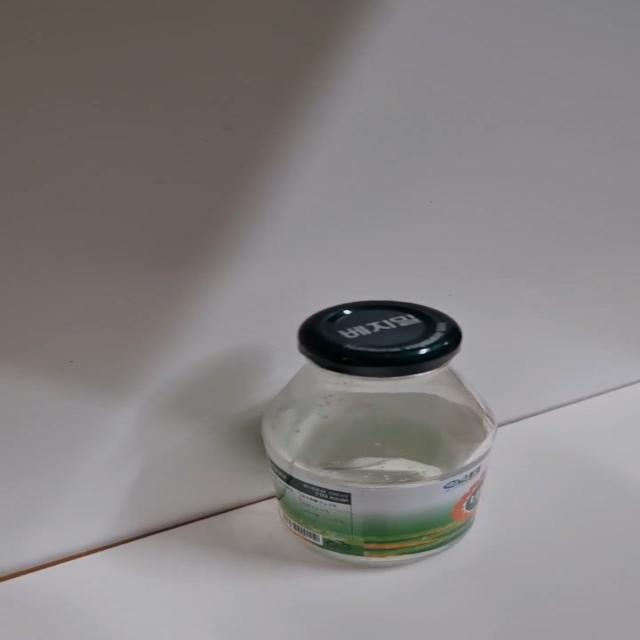Glass: (253, 304, 503, 564)
